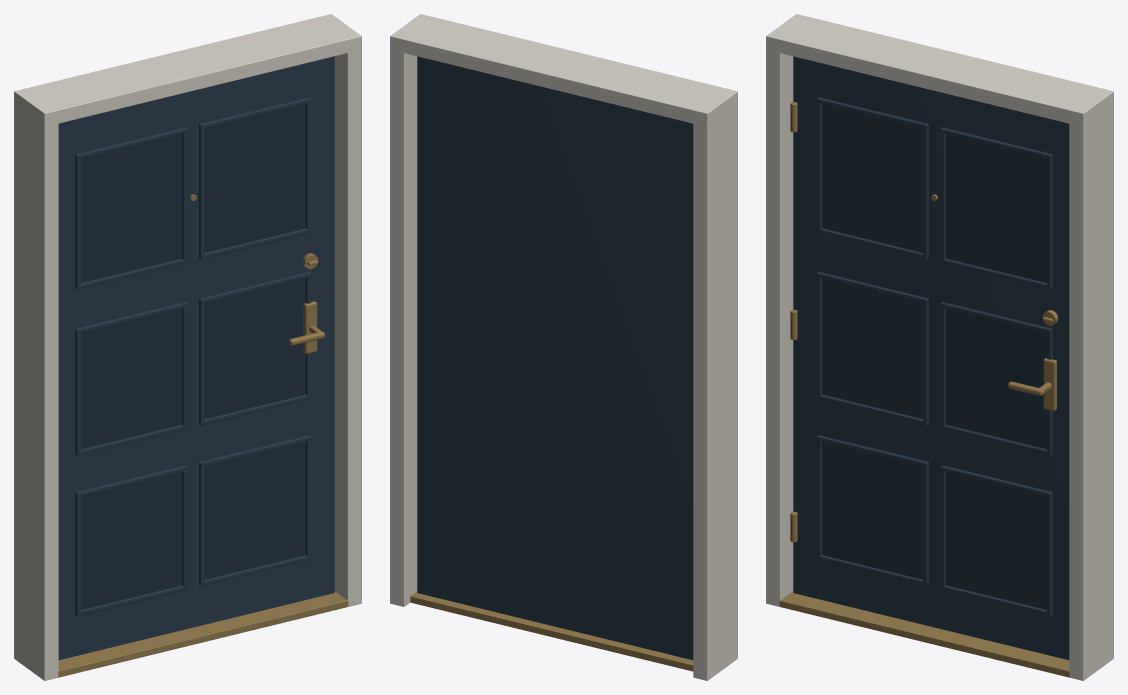
The model's file is entry-door-v001.glb.
3 renders of one model, left to right at view 1: azimuth 30°, elevation 25°; view 2: azimuth 150°, elevation 25°; view 3: azimuth 330°, elevation 25°, orthographic.
Parts seen in each view (by area): view 1: Export Solid closed entry leaf; view 2: Export Solid closed entry leaf; view 3: Export Solid closed entry leaf.
Part boxes in pixels (<box>): Export Solid closed entry leaf: <box>14,14,361,680</box>; Export Solid closed entry leaf: <box>390,14,737,680</box>; Export Solid closed entry leaf: <box>766,14,1113,680</box>.
Bounding box in the file's own units: 1.2 × 2.05 × 0.2185.
